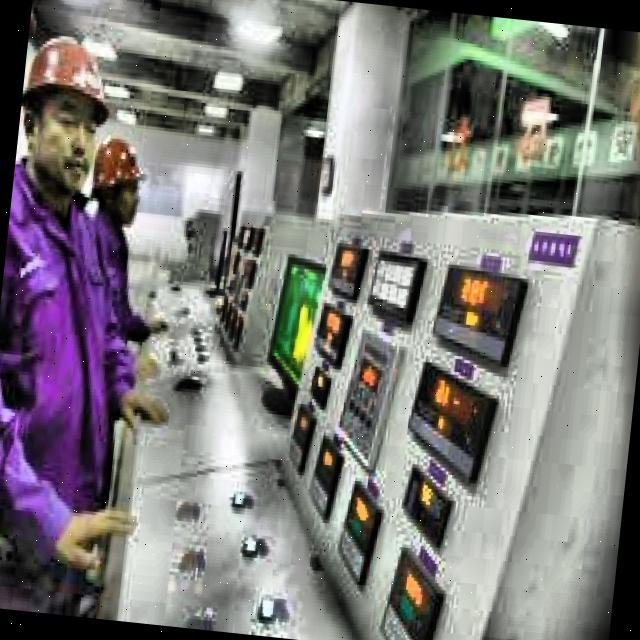helmet: (13, 19, 117, 208), (83, 126, 151, 235)
